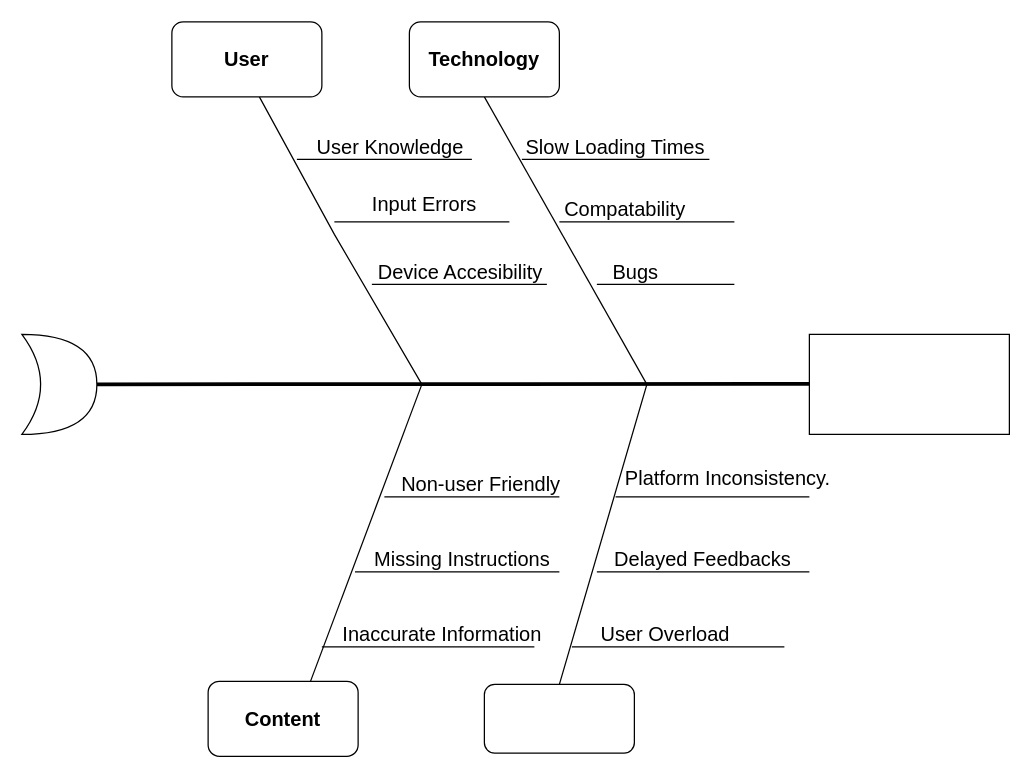
Image size: 1031x779. Some labels were removed from this diagram. Each missing label, with the centre of its shape:
"ENROLLMENT DENIED" goes at [908,383].
"User Experience" goes at [558,718].
